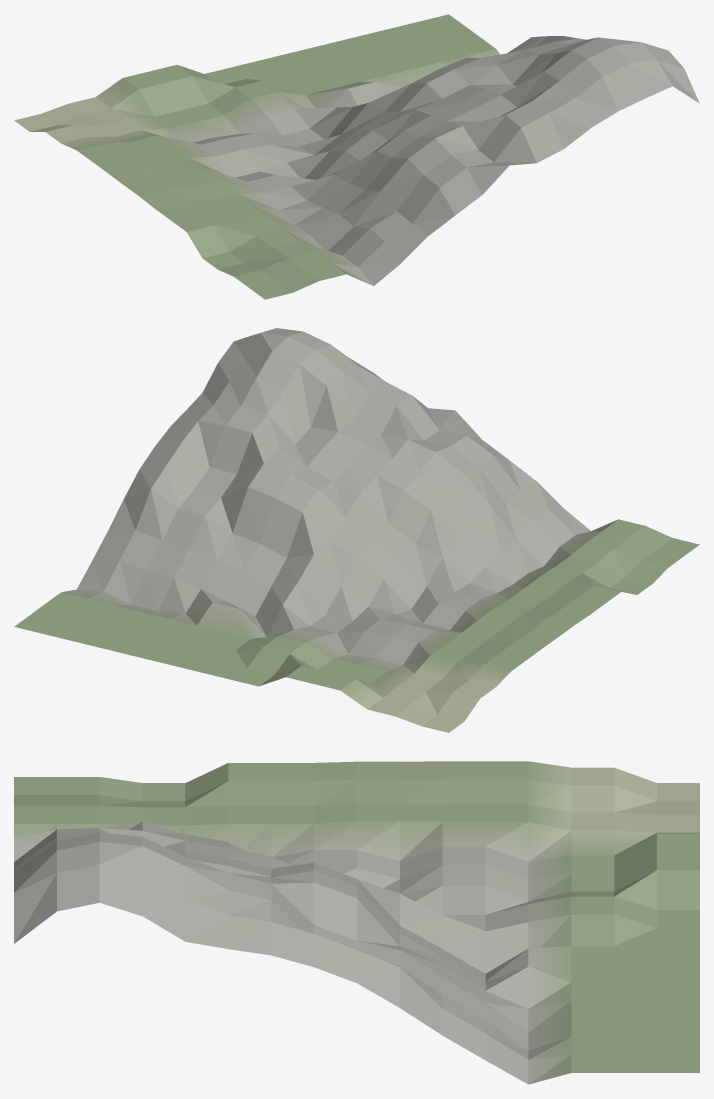
The picture shows the model from 3 angles, top to bottom: view 1: azimuth 30°, elevation 25°; view 2: azimuth 150°, elevation 25°; view 3: azimuth 270°, elevation 25°; orthographic projection. The views are drawn at different scales.
Size of the model in its own units: 32 by 10.74 by 32.
